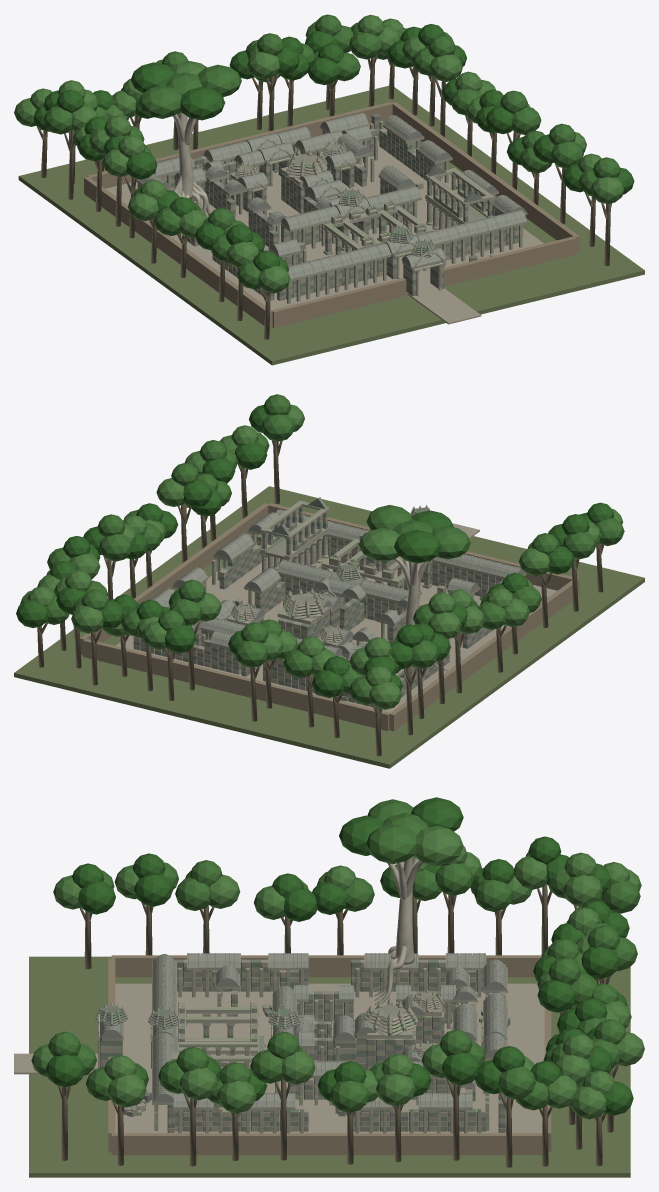
File: preah-khan-ultra.glb
3 views of the same model, one above another, from view 1: azimuth 30°, elevation 25°; view 2: azimuth 150°, elevation 25°; view 3: azimuth 270°, elevation 25° (orthographic). The views are drawn at different scales.
Parts seen in each view (by area): view 1: Forest floor, Carved sandstone, Forest canopy 0, Corbelled stone roofs, Forest canopy 1, Laterite enclosure, Forest canopy 2, Forest trunks, Courtyard paving, Weathered sandstone 1, Weathered sandstone 2, Weathered sandstone 0 (+2 smaller); view 2: Forest floor, Forest canopy 1, Forest canopy 0, Forest canopy 2, Laterite enclosure, Carved sandstone, Forest trunks, Corbelled stone roofs, Weathered sandstone 1, Weathered sandstone 2, Courtyard paving, Weathered sandstone 0 (+2 smaller); view 3: Forest floor, Forest canopy 1, Forest canopy 0, Forest canopy 2, Carved sandstone, Courtyard paving, Corbelled stone roofs, Laterite enclosure, Forest trunks, Weathered sandstone 1, Weathered sandstone 2, Weathered sandstone 3 (+2 smaller).
Part boxes in pixels (x1=…): Forest floor: x1=18, y1=85, x2=644, y2=365; Carved sandstone: x1=136, y1=112, x2=527, y2=304; Forest canopy 0: x1=33, y1=22, x2=634, y2=272; Corbelled stone roofs: x1=137, y1=112, x2=526, y2=278; Forest canopy 1: x1=43, y1=14, x2=620, y2=289; Laterite enclosure: x1=84, y1=102, x2=579, y2=328; Forest canopy 2: x1=14, y1=14, x2=624, y2=293; Forest trunks: x1=36, y1=54, x2=611, y2=339; Courtyard paving: x1=105, y1=127, x2=543, y2=324; Weathered sandstone 1: x1=170, y1=119, x2=518, y2=300; Weathered sandstone 2: x1=138, y1=113, x2=518, y2=299; Weathered sandstone 0: x1=137, y1=124, x2=518, y2=296; Forest floor: x1=14, y1=486, x2=644, y2=768; Forest canopy 1: x1=45, y1=394, x2=624, y2=704; Forest canopy 0: x1=16, y1=405, x2=614, y2=697; Forest canopy 2: x1=20, y1=404, x2=622, y2=709; Laterite enclosure: x1=80, y1=503, x2=579, y2=731; Carved sandstone: x1=151, y1=500, x2=526, y2=677; Forest trunks: x1=37, y1=440, x2=603, y2=756; Corbelled stone roofs: x1=151, y1=509, x2=525, y2=675; Weathered sandstone 1: x1=133, y1=520, x2=495, y2=707; Weathered sandstone 2: x1=133, y1=497, x2=496, y2=706; Courtyard paving: x1=115, y1=523, x2=557, y2=712; Weathered sandstone 0: x1=134, y1=507, x2=502, y2=702; Forest floor: x1=29, y1=956, x2=630, y2=1177; Forest canopy 1: x1=48, y1=799, x2=640, y2=1112; Forest canopy 0: x1=46, y1=797, x2=633, y2=1115; Forest canopy 2: x1=31, y1=825, x2=644, y2=1119; Carved sandstone: x1=95, y1=953, x2=507, y2=1133; Courtyard paving: x1=14, y1=983, x2=544, y2=1133; Corbelled stone roofs: x1=99, y1=953, x2=507, y2=1107; Laterite enclosure: x1=108, y1=955, x2=551, y2=1155; Forest trunks: x1=58, y1=884, x2=619, y2=1167; Weathered sandstone 1: x1=100, y1=959, x2=507, y2=1132; Weathered sandstone 2: x1=96, y1=959, x2=505, y2=1131; Weathered sandstone 3: x1=100, y1=959, x2=505, y2=1131.
Bounding box in the file's own units: 36.23 × 14.06 × 41.95.
